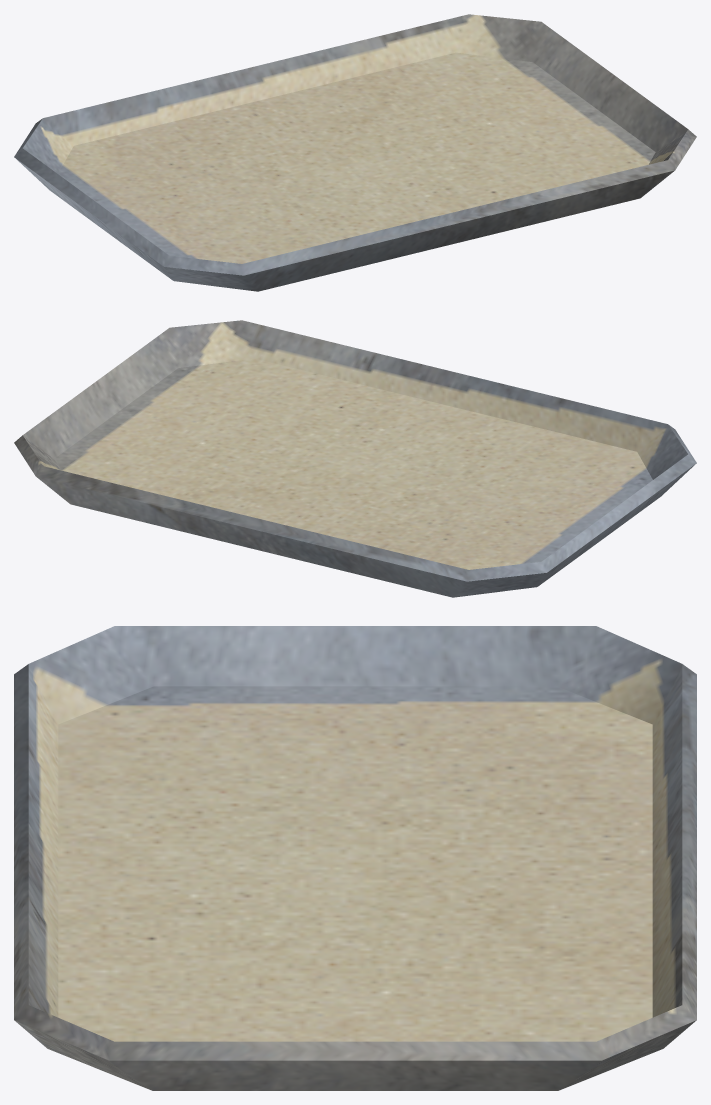
File: Tray.dae
3 renders of one model, top to bottom at view 1: azimuth 30°, elevation 25°; view 2: azimuth 150°, elevation 25°; view 3: azimuth 270°, elevation 25°, orthographic. The views are drawn at different scales.
Parts seen in each view (by area): view 1: Tray; view 2: Tray; view 3: Tray.
Part boxes in pixels (<box>): Tray: <box>14,14,696,291</box>; Tray: <box>14,320,696,597</box>; Tray: <box>14,626,696,1090</box>.
Bounding box in the file's own units: 0.6221 × 0.4206 × 0.042.
Materials: 1 (1 with a texture image).
